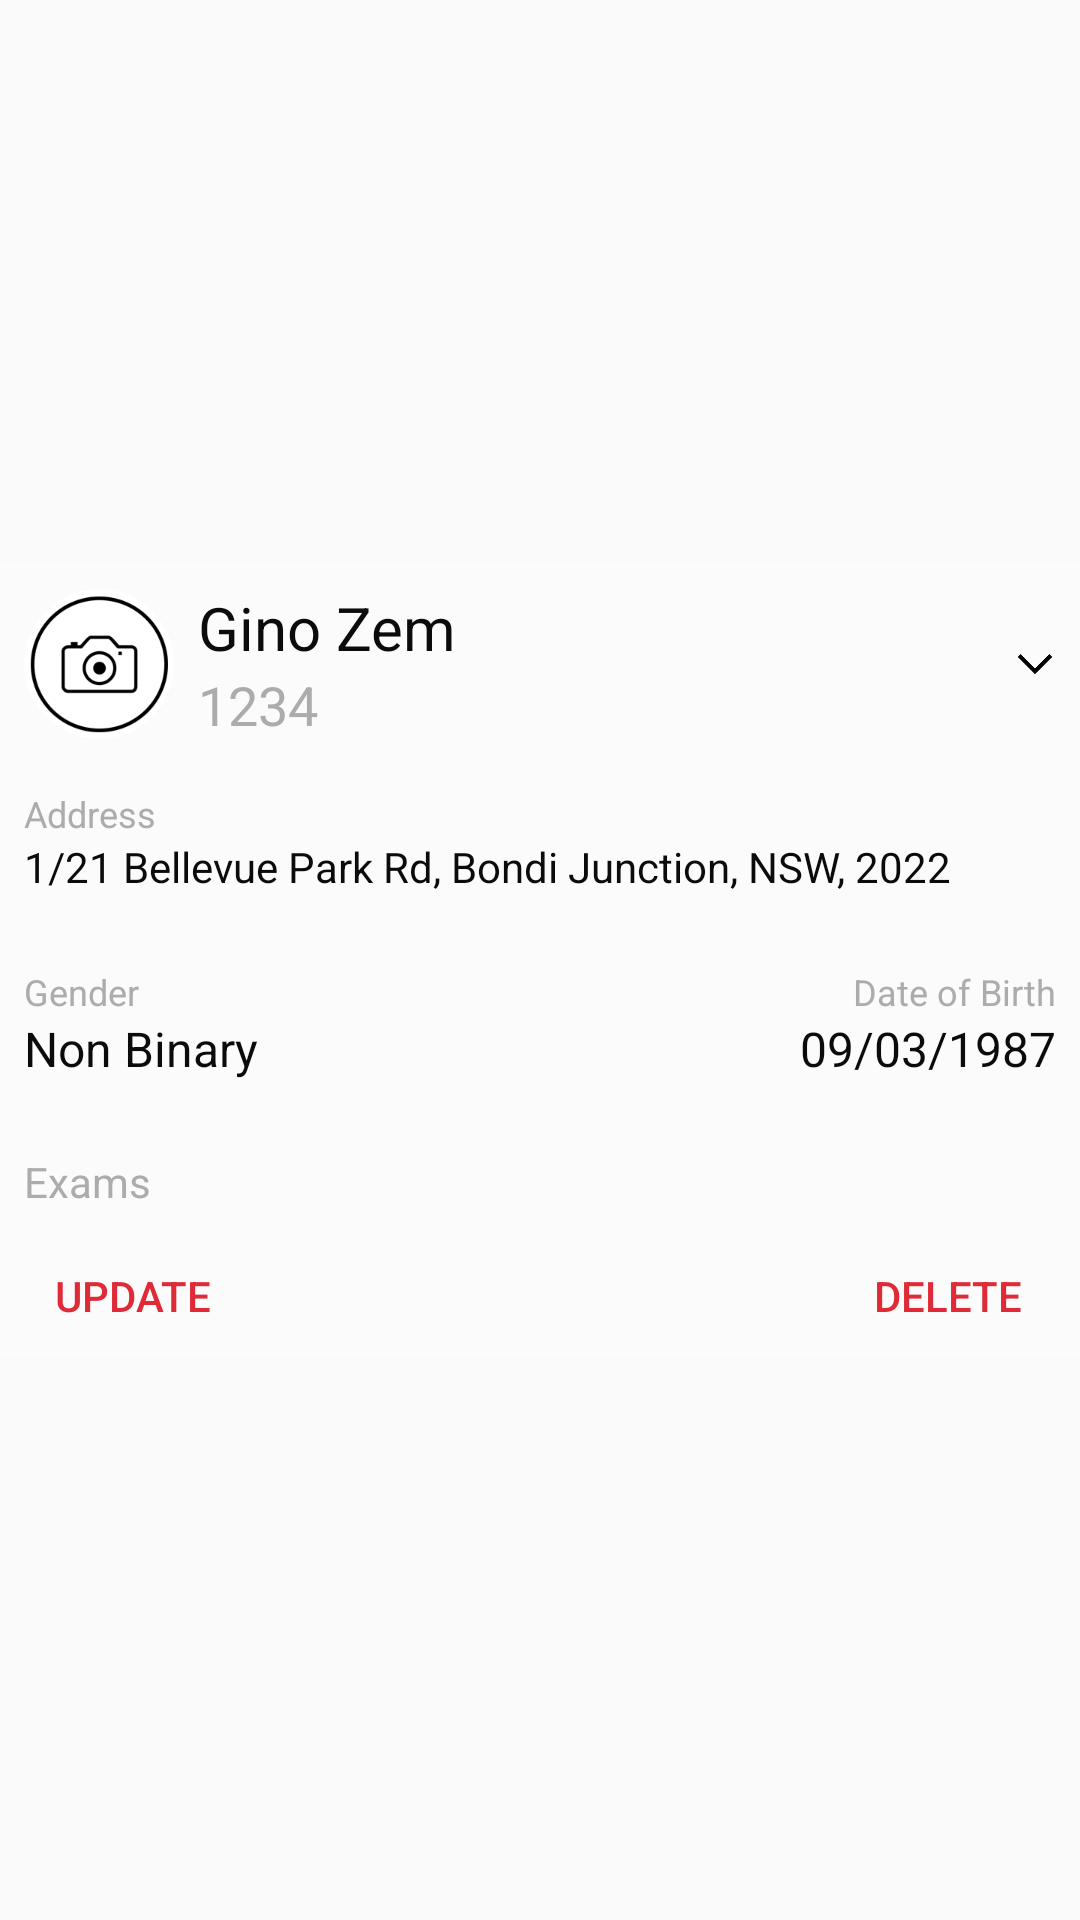

Icon click points for this 1080x1920 phone screenshot, format (x,y):
newimage: (99,664)
